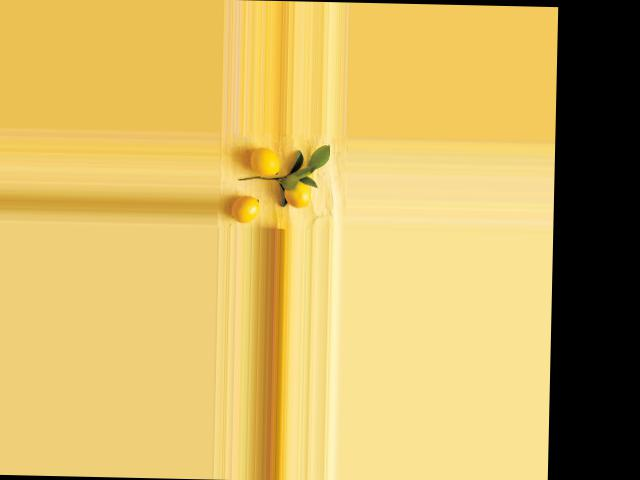lemon: (226, 193, 262, 223)
